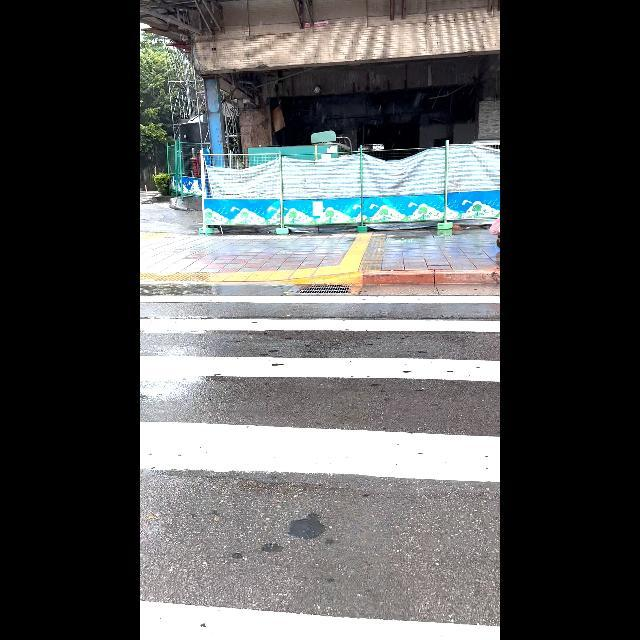sidewalk: (140, 278, 500, 640)
